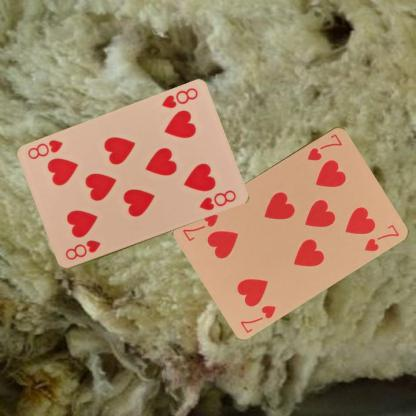7h: (237, 302, 278, 334), (304, 130, 344, 161)
8h: (158, 85, 200, 110), (62, 237, 102, 262)
